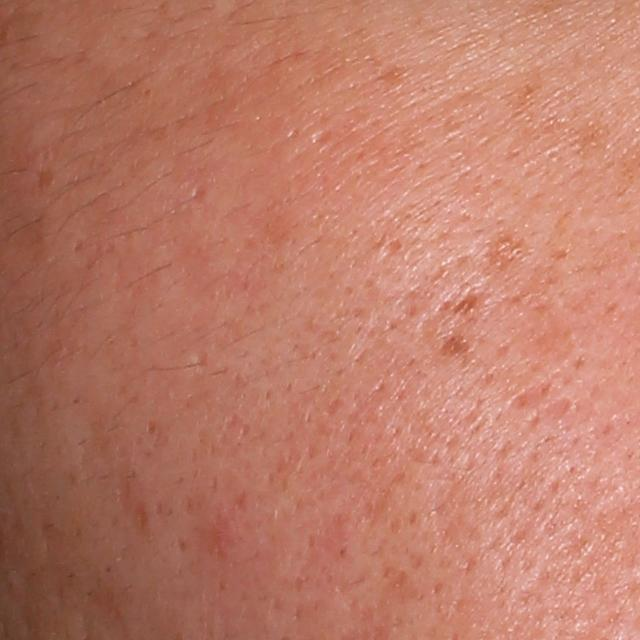atrophic_scar: (191, 351, 214, 375)
melasma: (442, 330, 477, 359), (32, 167, 57, 193)
